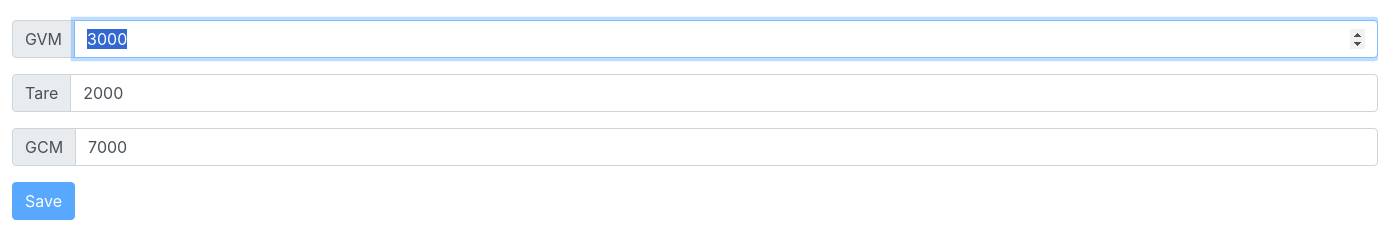
Test: disables the save button until the form is changed
Check: the button "Save" is disabled, box top-left (12, 182), bottom-right (75, 220)
Replace the text in the number field with placeholder "GVM" next to "GVM" with "666" at x=726, y=39, box top-left (74, 20), bottom-right (1378, 58)
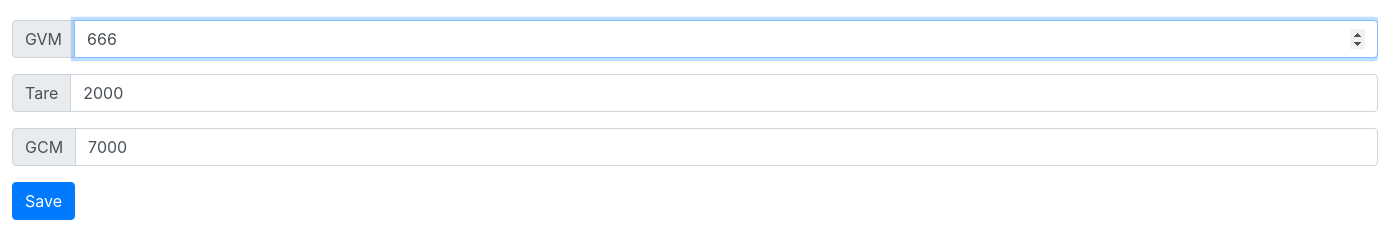
Check: the button "Save" is enabled, box top-left (12, 182), bottom-right (75, 220)
